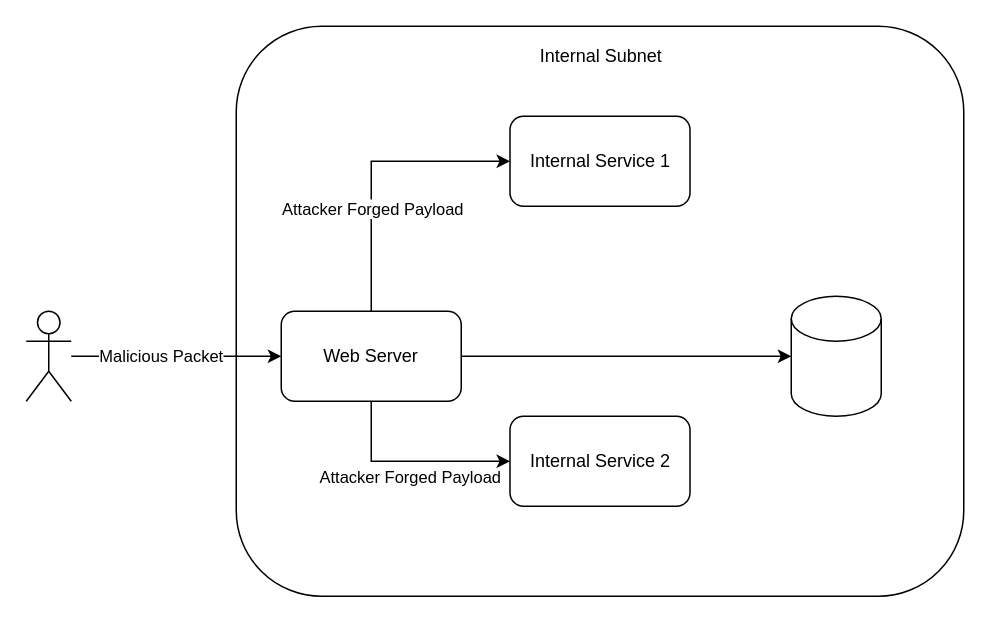
Some shapes in this 990 by 623 pixel diagram are drawn without their labels. Here are the shapes that lost their labels. From the top down, the centre of each, then its label:
At pixel 48 355: "Actor".
At pixel 835 355: "DB".
